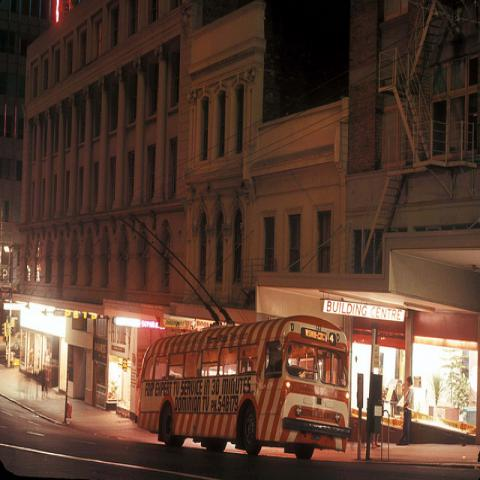bus: (139, 316, 354, 467)
